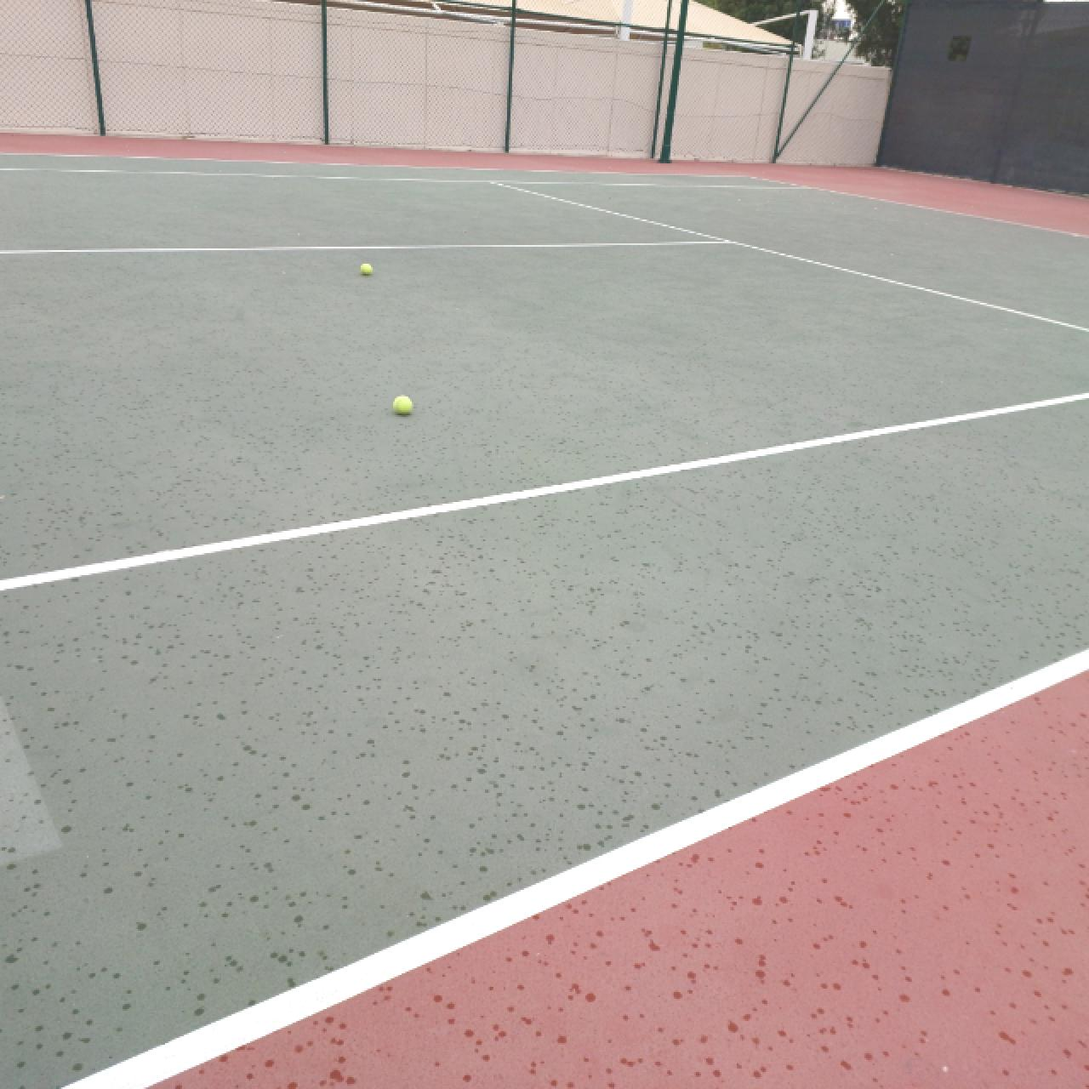tennis-ball: (391, 391, 413, 418), (359, 260, 373, 280)
